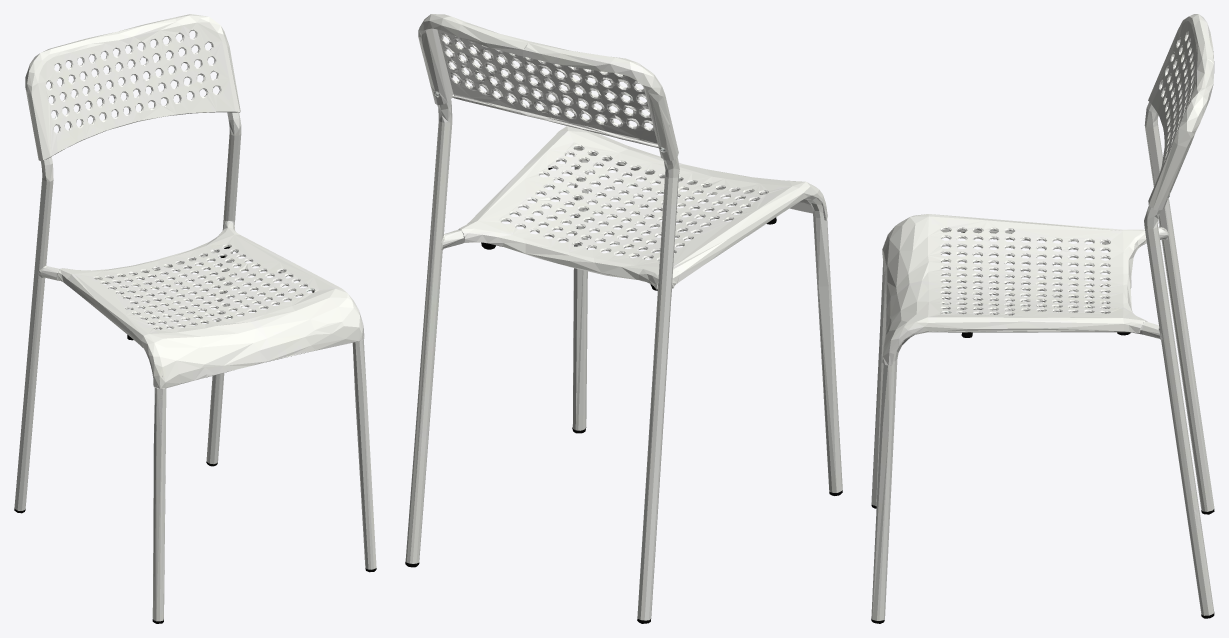
The picture shows the model from 3 angles, left to right: view 1: azimuth 30°, elevation 25°; view 2: azimuth 150°, elevation 25°; view 3: azimuth 270°, elevation 25°; orthographic projection. The views are drawn at different scales.
Parts seen in each view (by area): view 1: ASY_ART_10605424_S01_NV01_NODE_ID_3c8723ca-38a8-4253-b638-45; view 2: ASY_ART_10605424_S01_NV01_NODE_ID_3c8723ca-38a8-4253-b638-45; view 3: ASY_ART_10605424_S01_NV01_NODE_ID_3c8723ca-38a8-4253-b638-45.
Boxes of the visible parts, x1,y1,x2,y2 form: ASY_ART_10605424_S01_NV01_NODE_ID_3c8723ca-38a8-4253-b638-45: (14, 14, 376, 623); ASY_ART_10605424_S01_NV01_NODE_ID_3c8723ca-38a8-4253-b638-45: (405, 14, 842, 623); ASY_ART_10605424_S01_NV01_NODE_ID_3c8723ca-38a8-4253-b638-45: (871, 14, 1214, 623).
Bounding box in the file's own units: 0.39 × 0.77 × 0.47.
1 material, 1 textured.
